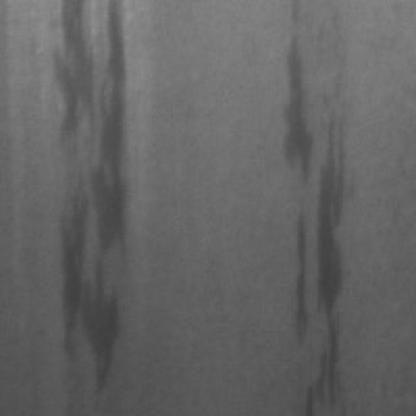inclusion: (51, 0, 140, 406), (285, 0, 364, 393), (277, 25, 320, 189), (302, 308, 352, 412)
